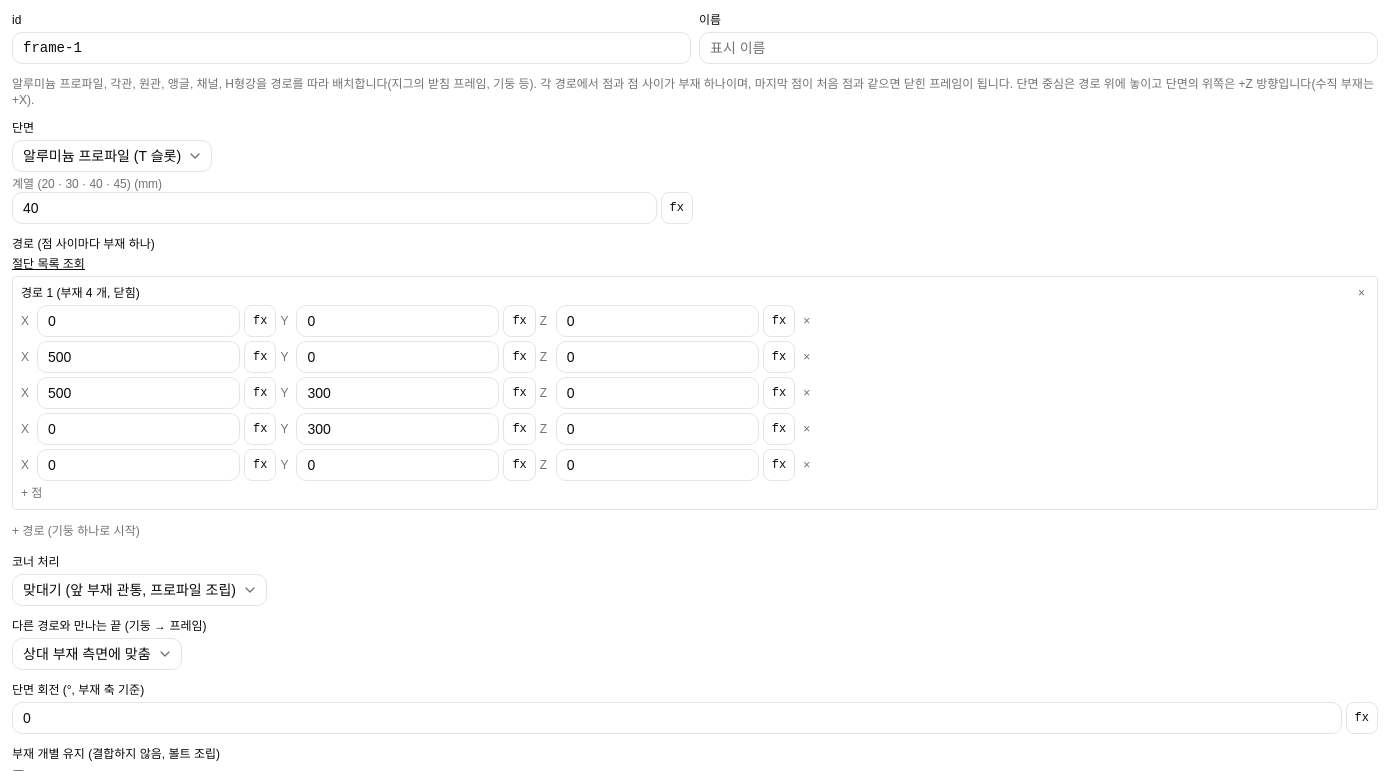
Test: 구조 프레임 — 절단 목록을 서버에서 받아 표로 보인다
The image size is (1390, 771).
Click the button "절단 목록 조회" at (48, 264), box x1=12 y1=256 x2=85 y2=272
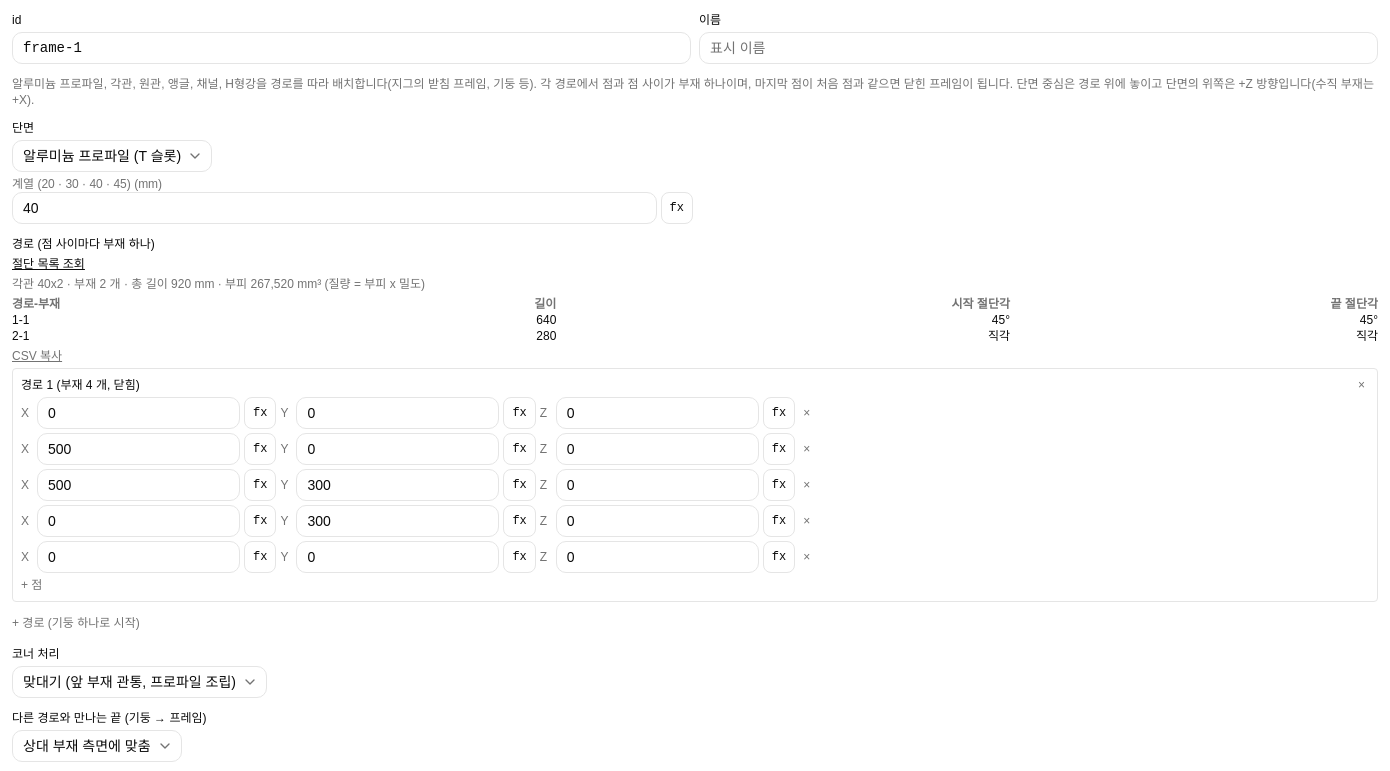
Check: the text "각관 40x2 · 부재 2 개" is shown, box x1=12 y1=277 x2=425 y2=291
Check: the text "45°" is shown 2 times, box x1=556 y1=312 x2=1010 y2=328; x1=1010 y1=312 x2=1378 y2=328
Check: the text "직각" is shown 2 times, box x1=556 y1=328 x2=1010 y2=344; x1=1010 y1=328 x2=1378 y2=344
